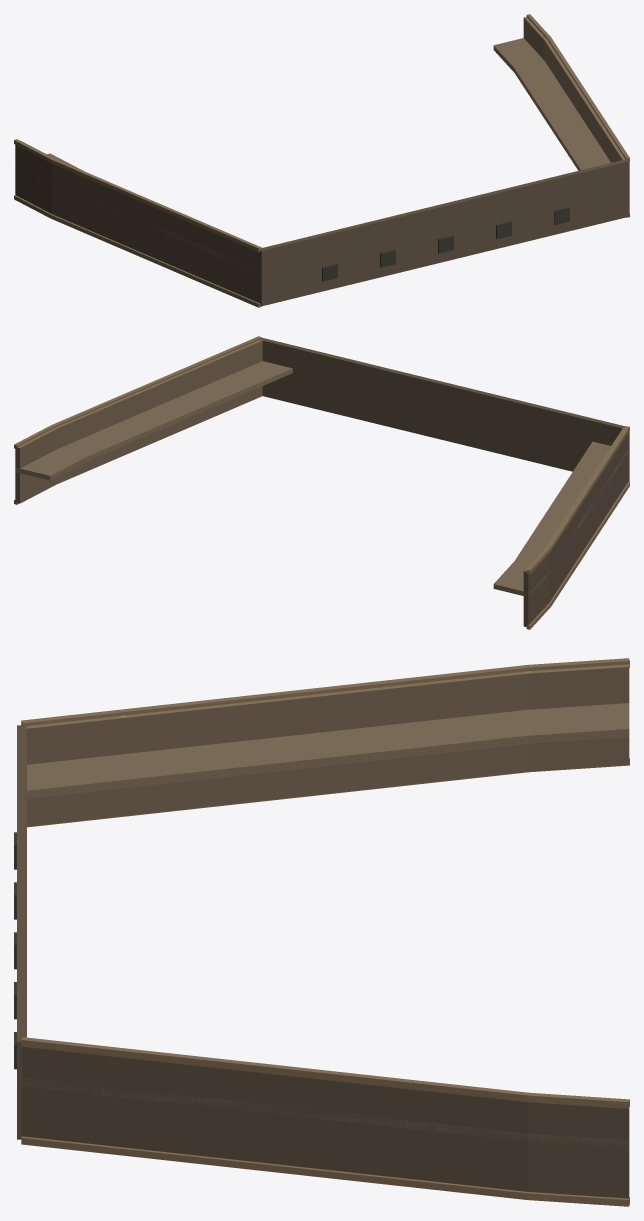
File: S2_Aftcastle_Sides.fbx
3 views of the same model, one above another, from view 1: azimuth 30°, elevation 25°; view 2: azimuth 150°, elevation 25°; view 3: azimuth 270°, elevation 25° (orthographic). The views are drawn at different scales.
Visible parts, largest first — view 1: S2_Aftcastle_Sides; view 2: S2_Aftcastle_Sides; view 3: S2_Aftcastle_Sides.
Part boxes in pixels (x1=…): S2_Aftcastle_Sides: x1=14, y1=14, x2=629, y2=307; S2_Aftcastle_Sides: x1=14, y1=336, x2=629, y2=629; S2_Aftcastle_Sides: x1=14, y1=658, x2=629, y2=1206.
Size of the model in its own units: 31.14 by 3.42 by 18.26.
